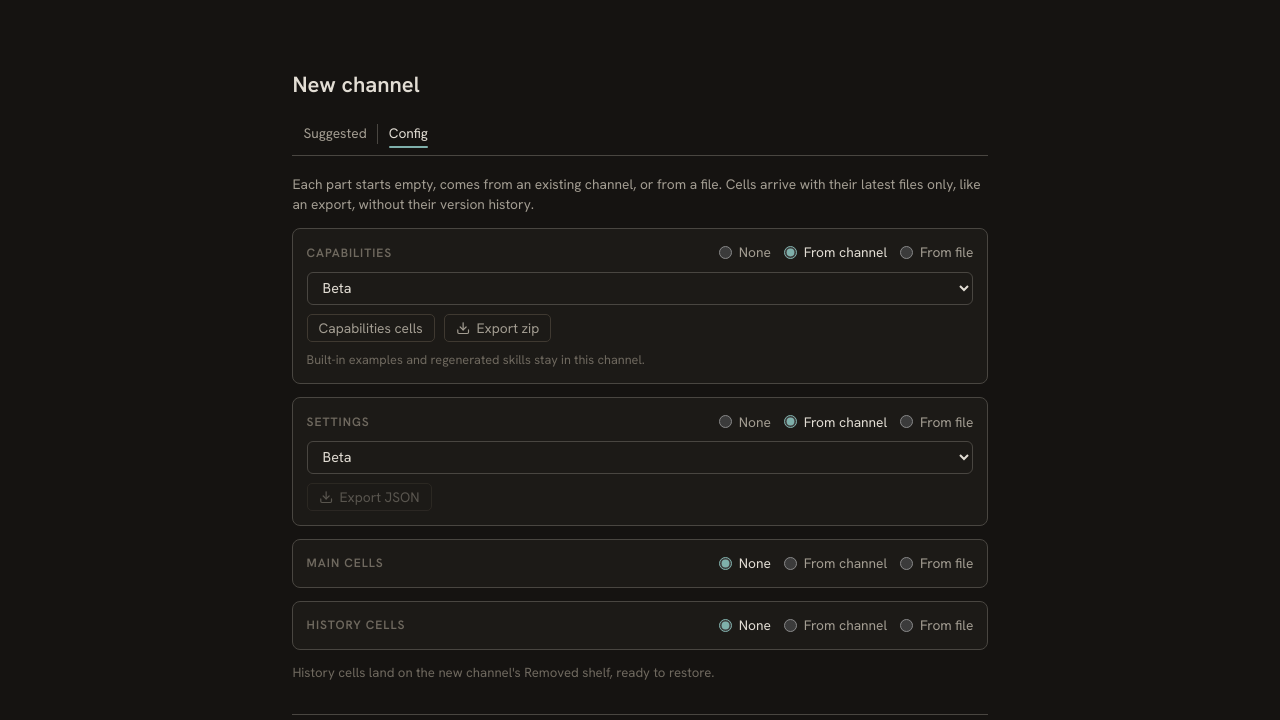
New channel: Config › says when a channel has no tags
This screenshot has width=1280, height=720.
Click the 4th radio button labelled "From channel" at (790,625), box x1=784 y1=619 x2=797 y2=632
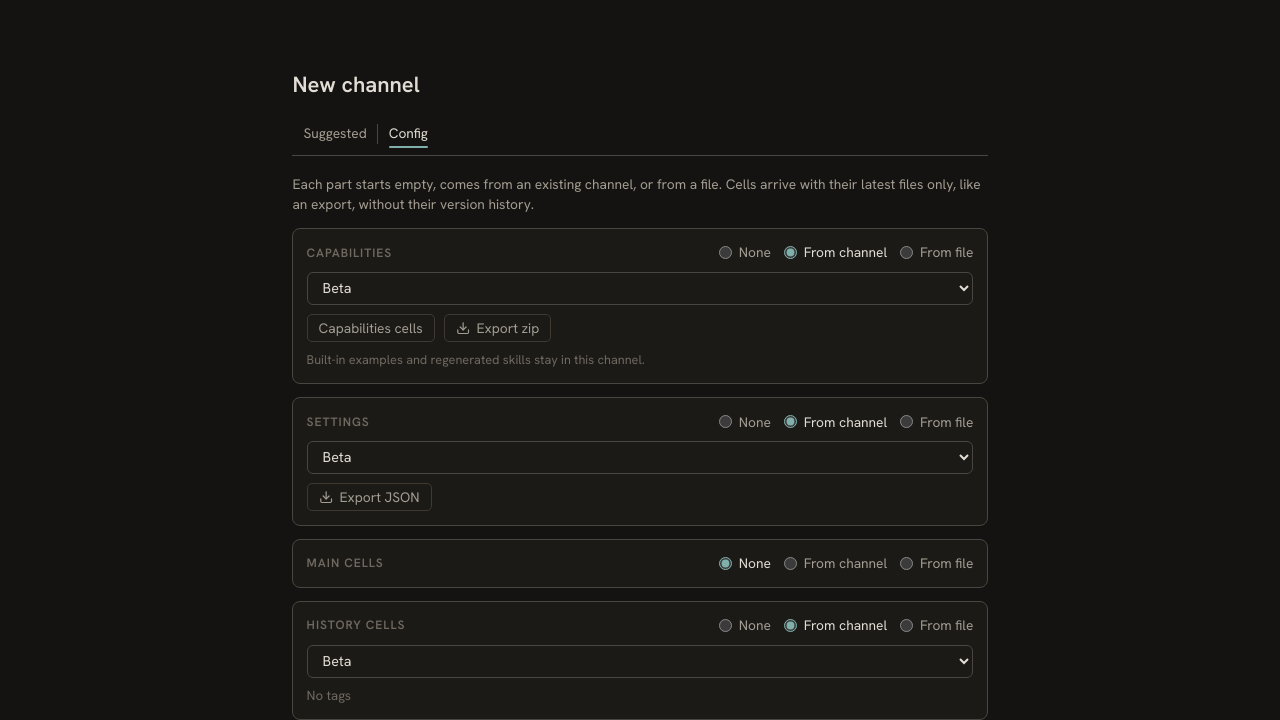
Now the text "No tags" is shown, box x1=307 y1=687 x2=351 y2=704
